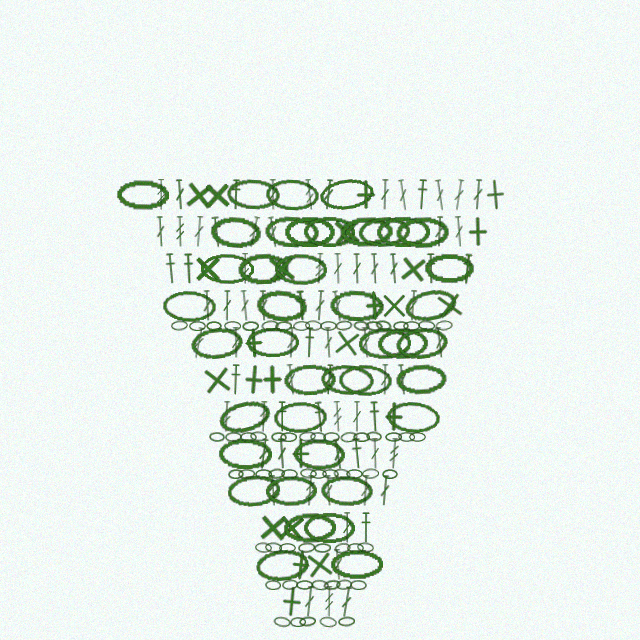chain: (216, 396, 274, 438), (402, 285, 460, 326), (318, 176, 375, 213), (254, 547, 310, 583), (189, 325, 244, 361), (394, 325, 449, 361), (226, 473, 281, 508), (255, 288, 309, 323), (357, 215, 412, 249), (386, 400, 440, 434), (320, 363, 374, 397), (209, 215, 263, 249), (329, 289, 384, 322), (264, 215, 319, 248), (226, 178, 281, 211), (265, 178, 319, 211), (273, 401, 328, 433), (338, 364, 393, 396), (283, 363, 336, 396), (395, 363, 448, 396), (237, 252, 290, 285), (162, 290, 216, 322), (200, 253, 254, 285), (274, 253, 328, 285), (339, 216, 393, 248), (395, 216, 449, 248), (283, 512, 336, 544), (265, 475, 318, 507), (320, 475, 373, 507), (293, 438, 346, 470), (358, 327, 411, 359), (116, 179, 169, 211), (218, 438, 272, 469), (246, 327, 300, 358), (376, 216, 430, 247), (377, 327, 429, 359), (330, 549, 383, 580), (303, 512, 355, 543), (284, 216, 336, 247), (303, 216, 355, 247), (424, 253, 475, 284), (375, 319, 392, 332), (273, 616, 291, 628), (319, 616, 337, 628), (311, 579, 329, 591), (323, 579, 341, 591), (333, 468, 351, 480), (340, 431, 358, 443), (365, 320, 383, 332), (334, 542, 351, 554), (353, 320, 370, 332), (261, 320, 279, 331), (335, 320, 353, 331), (435, 320, 453, 331), (299, 616, 316, 627), (338, 616, 355, 627), (255, 542, 272, 553), (265, 542, 282, 553), (298, 542, 315, 553), (357, 542, 374, 553), (268, 468, 285, 479), (300, 468, 317, 479), (362, 468, 379, 479), (250, 431, 267, 442), (299, 431, 316, 442), (171, 320, 188, 331), (305, 320, 322, 331), (418, 320, 435, 331), (282, 579, 298, 590), (336, 579, 352, 590), (366, 431, 382, 442), (296, 580, 313, 590), (350, 580, 367, 590), (279, 543, 296, 553), (314, 543, 331, 553), (347, 543, 364, 553), (238, 469, 255, 479), (255, 469, 272, 479), (281, 469, 298, 479), (310, 469, 327, 479), (322, 469, 339, 479), (346, 469, 363, 479), (225, 432, 242, 442), (240, 432, 257, 442), (280, 432, 297, 442), (323, 432, 340, 442), (353, 432, 370, 442), (385, 432, 402, 442), (398, 432, 415, 442), (409, 432, 426, 442), (189, 321, 206, 331), (224, 321, 241, 331), (242, 321, 259, 331), (275, 321, 292, 331), (293, 321, 310, 331), (320, 321, 337, 331), (403, 321, 420, 331), (290, 617, 306, 627), (265, 580, 281, 590), (228, 469, 244, 479), (382, 469, 398, 479), (209, 432, 225, 442), (271, 432, 287, 442), (310, 432, 326, 442), (206, 321, 222, 331), (393, 321, 409, 331)
double: (246, 216, 262, 248), (339, 586, 354, 618), (191, 327, 206, 359), (330, 290, 345, 322), (331, 438, 345, 470), (266, 216, 280, 248), (396, 179, 410, 211), (433, 179, 447, 211), (452, 179, 466, 211), (257, 438, 270, 470), (303, 586, 316, 617), (285, 364, 298, 395), (396, 364, 409, 395), (433, 327, 446, 358), (322, 179, 335, 210), (332, 549, 344, 580), (379, 475, 391, 506), (276, 438, 288, 469), (323, 364, 335, 395), (360, 327, 372, 358), (239, 290, 251, 321), (314, 290, 326, 321), (407, 290, 419, 321), (388, 253, 400, 284), (193, 216, 205, 247), (453, 216, 465, 247), (174, 179, 186, 210), (472, 179, 484, 210), (323, 475, 334, 506), (360, 475, 371, 506), (286, 327, 297, 358), (323, 327, 334, 358), (202, 290, 213, 321), (258, 290, 269, 321), (369, 253, 380, 284), (155, 216, 166, 247), (434, 216, 445, 247), (342, 512, 352, 543), (370, 438, 380, 469), (352, 401, 362, 432), (380, 364, 390, 395), (231, 327, 241, 358), (222, 290, 232, 321), (333, 253, 343, 284), (352, 253, 362, 284), (268, 179, 278, 210), (380, 179, 390, 210)
half_double: (312, 401, 327, 433), (460, 253, 475, 285), (209, 216, 224, 248), (350, 438, 364, 469), (294, 290, 308, 321), (164, 253, 178, 284), (415, 179, 429, 210), (368, 401, 381, 432), (229, 364, 242, 395), (303, 327, 316, 358), (182, 253, 195, 284), (360, 512, 372, 543), (276, 401, 288, 432), (425, 253, 437, 284), (230, 179, 242, 210)
single: (302, 547, 337, 582), (432, 288, 467, 323), (284, 548, 318, 582), (200, 363, 234, 397), (330, 326, 364, 360), (396, 252, 430, 286), (182, 178, 216, 212), (275, 585, 308, 618), (256, 511, 289, 544), (275, 511, 308, 544), (237, 363, 270, 396), (358, 289, 391, 322), (265, 252, 298, 285), (330, 215, 363, 248), (479, 178, 512, 211), (238, 327, 270, 359), (201, 179, 233, 211), (285, 438, 316, 469), (378, 401, 409, 432), (257, 364, 288, 395), (192, 253, 223, 284), (462, 216, 493, 247), (350, 179, 381, 210), (379, 290, 409, 321)
treble: (303, 179, 316, 210), (267, 475, 279, 506), (304, 475, 316, 506), (388, 438, 400, 469), (221, 401, 232, 432), (258, 401, 269, 432), (332, 401, 343, 432), (314, 253, 325, 284), (324, 586, 334, 617), (240, 253, 250, 284), (175, 216, 185, 247), (156, 179, 166, 210)
